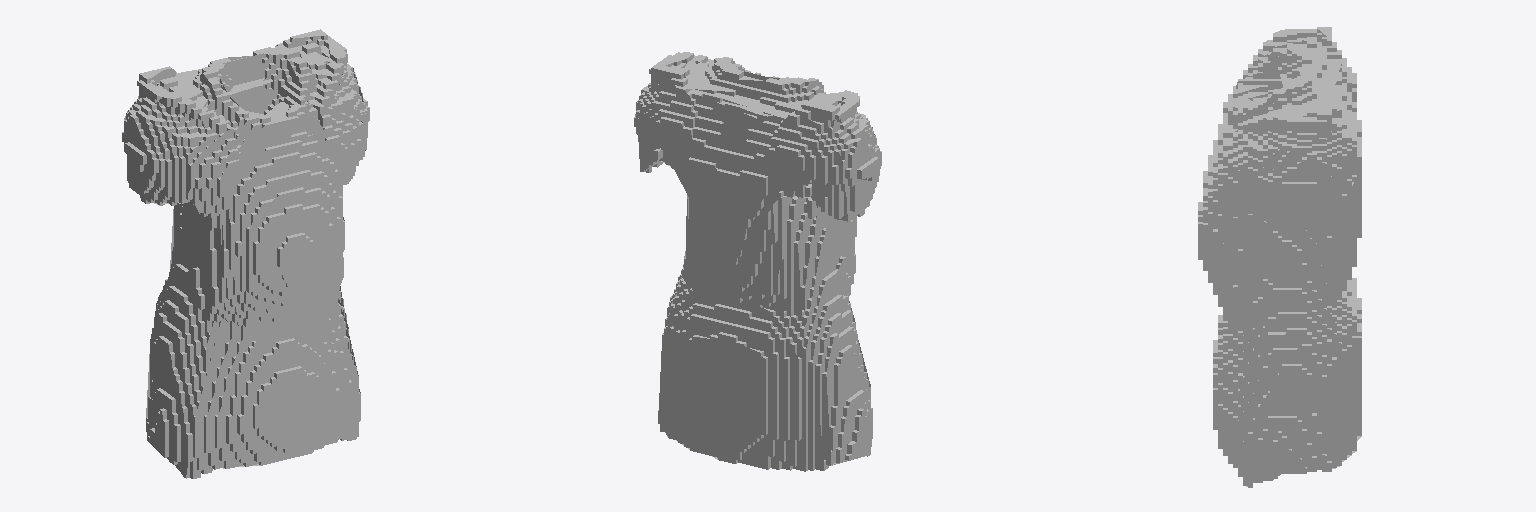
Rendered from Armor_Steelplate_Pickup.obj.
The picture shows the model from 3 angles: view 1: azimuth 30°, elevation 25°; view 2: azimuth 150°, elevation 25°; view 3: azimuth 270°, elevation 25°; orthographic projection.
Visible parts, largest first — view 1: Armor_Steelplate_Pickup; view 2: Armor_Steelplate_Pickup; view 3: Armor_Steelplate_Pickup.
Boxes of the visible parts, x1=… form: Armor_Steelplate_Pickup: x1=122, y1=29, x2=369, y2=478; Armor_Steelplate_Pickup: x1=634, y1=52, x2=881, y2=471; Armor_Steelplate_Pickup: x1=1198, y1=27, x2=1361, y2=487.
Bounding box in the file's own units: 0.52 × 0.84 × 0.33.